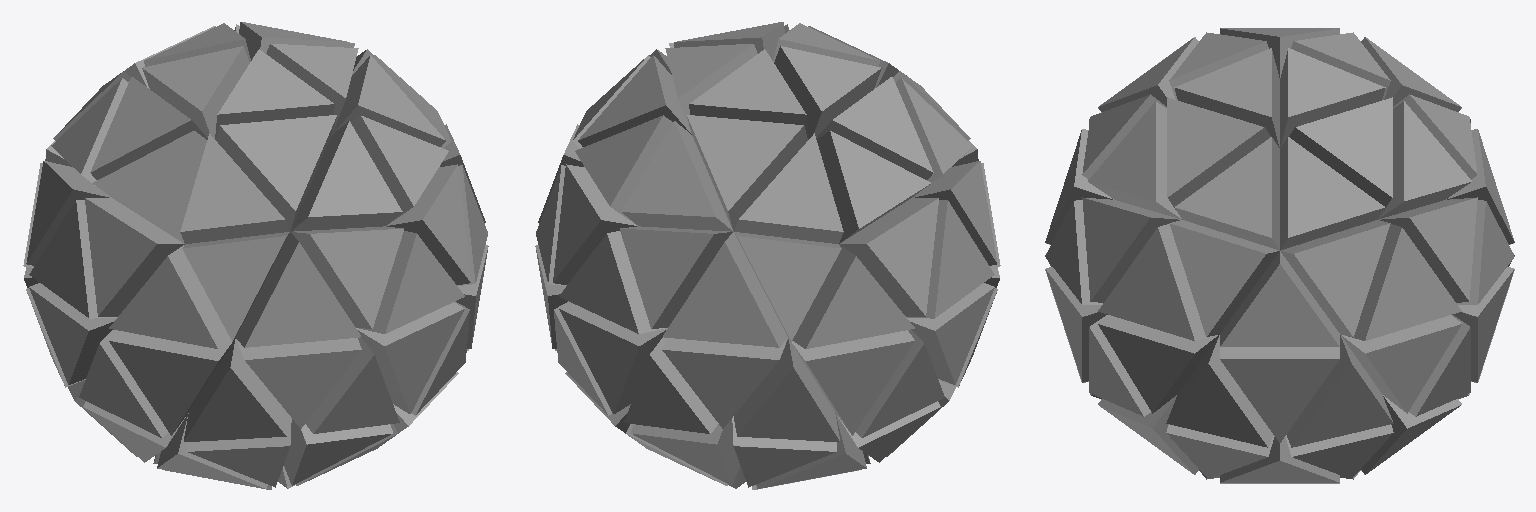
File: enemy.obj
3 renders of one model, left to right at view 1: azimuth 30°, elevation 25°; view 2: azimuth 150°, elevation 25°; view 3: azimuth 270°, elevation 25°, orthographic.
Parts seen in each view (by area): view 1: Icosphere; view 2: Icosphere; view 3: Icosphere.
Part boxes in pixels (left/top/right/bottom): Icosphere: left=23, top=22, right=488, bottom=489; Icosphere: left=535, top=22, right=1000, bottom=489; Icosphere: left=1045, top=28, right=1514, bottom=483.
Size of the model in its own units: 2.34 by 2.42 by 2.42.